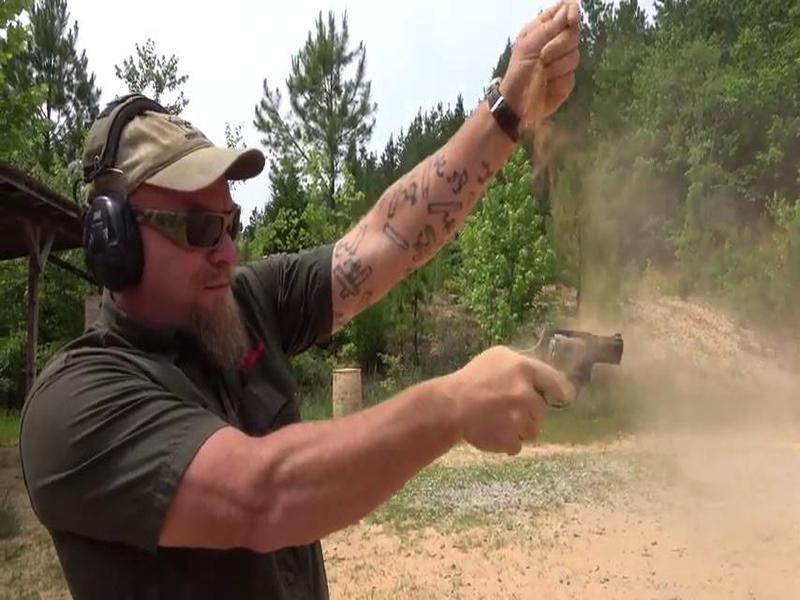Revolver: (473, 309, 643, 433)
